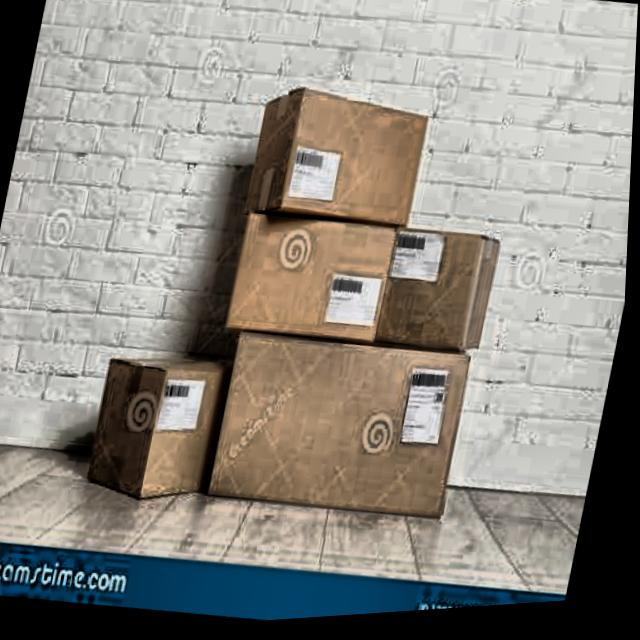Cardbox: (175, 301, 496, 554), (234, 69, 449, 253), (205, 193, 410, 373), (83, 342, 236, 517), (369, 212, 528, 378)
